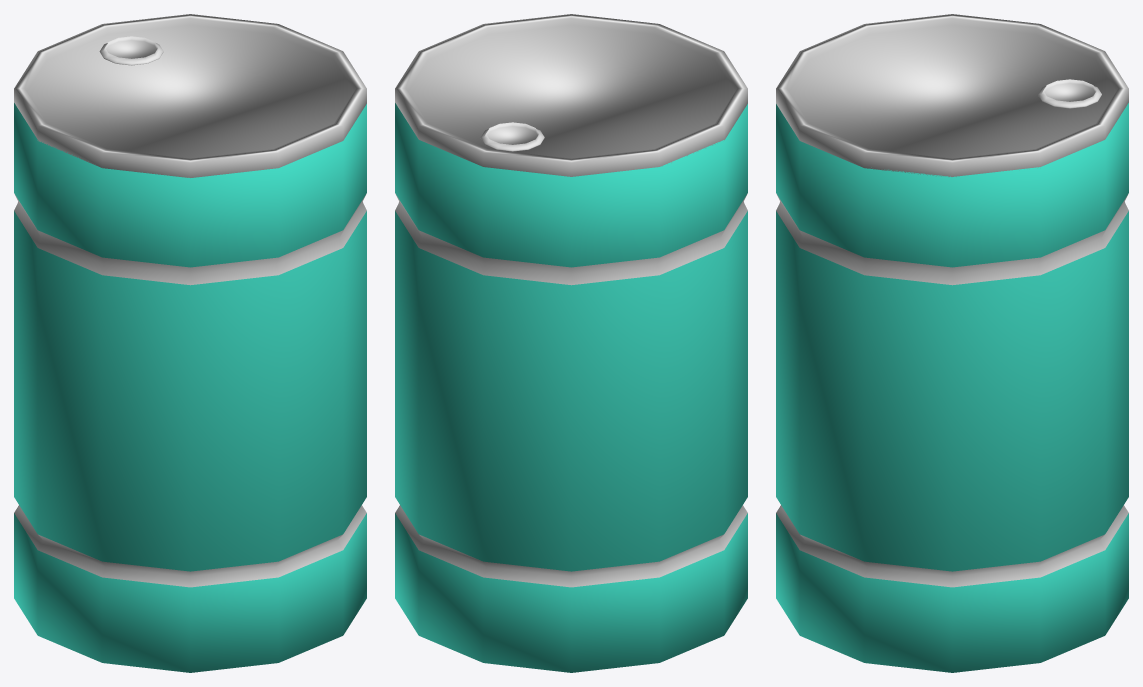
The model's file is barrell.fbx.
3 views of the same model, side by side, from view 1: azimuth 30°, elevation 25°; view 2: azimuth 150°, elevation 25°; view 3: azimuth 270°, elevation 25° (orthographic).
Parts seen in each view (by area): view 1: Cylinder, Cylinder.001, Cylinder.003; view 2: Cylinder, Cylinder.001, Cylinder.003; view 3: Cylinder, Cylinder.001, Cylinder.003.
Boxes of the visible parts, left/top/right/bottom form: Cylinder: left=14, top=103, right=366, bottom=672; Cylinder.001: left=14, top=14, right=366, bottom=177; Cylinder.003: left=99, top=36, right=163, bottom=65; Cylinder: left=395, top=103, right=747, bottom=672; Cylinder.001: left=395, top=14, right=747, bottom=176; Cylinder.003: left=480, top=122, right=544, bottom=151; Cylinder: left=776, top=103, right=1128, bottom=672; Cylinder.001: left=776, top=14, right=1128, bottom=176; Cylinder.003: left=1038, top=79, right=1101, bottom=108.
Bounding box in the file's own units: 46.88 × 74.74 × 46.88.
